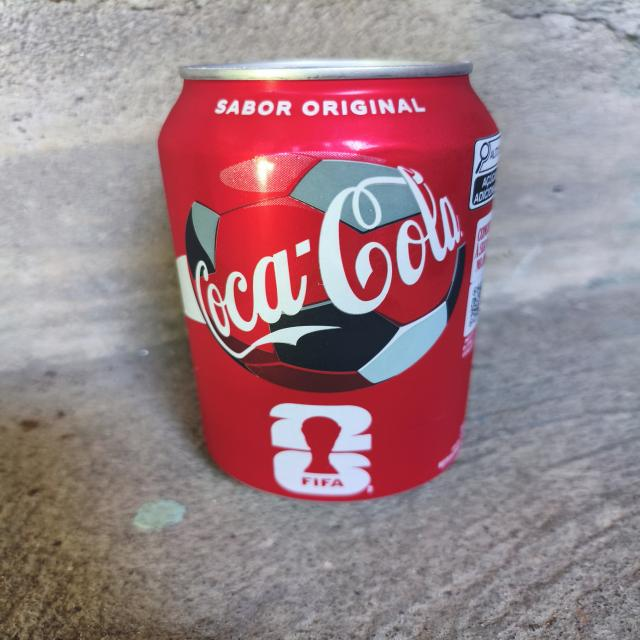Coca Cola: (145, 47, 550, 513)
